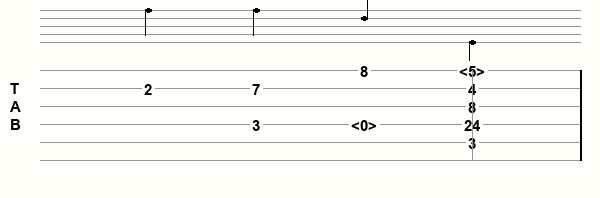2: (144, 81, 156, 96)
24: (464, 117, 484, 132)
3: (252, 117, 264, 132), (468, 135, 480, 150)
4: (468, 81, 480, 96)
7: (252, 81, 264, 96)
8: (360, 63, 372, 78), (468, 99, 480, 114)
harmonic: (351, 117, 381, 132), (459, 63, 489, 78)
